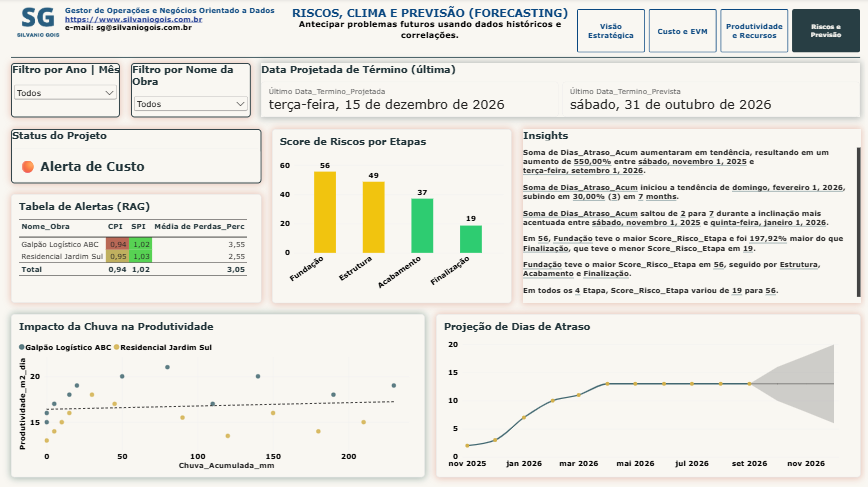

The page's visual inventory and layout, read from the dashboard file:
{"tool":"powerbi","page":{"name":"Riscos e Previsão","canvas":[1920,1080],"ordinal":3},"visuals":[{"type":"image","box":[24,0,120,96],"z":0},{"type":"textbox","box":[144,0,480,120],"z":1000},{"type":"textbox","box":[624,0,648,144],"z":2000},{"type":"pageNavigator","box":[1272,24,624,96],"z":3000},{"type":"shape","box":[24,120,1872,24],"z":4000},{"type":"scatterChart","title":"Impacto da Chuva na Produtividade","fields":{"Series":["Obras.Nome_Obra"],"X":["Obras.Chuva_Acumulada_mm"],"Y":["Obras.Produtividade_m2_dia"]},"box":[24,696,912,360],"z":5000},{"type":"slicer","title":"Filtro por Nome da Obra","fields":{"Values":["Obras.Nome_Obra"]},"box":[288,144,264,120],"z":6000},{"type":"slicer","title":"Filtro por Ano | Mês","fields":{"Values":["Obras.Data_Referencia.Variation.Hierarquia de datas.Ano","Obras.Data_Referencia.Variation.Hierarquia de datas.Mês"]},"box":[24,144,240,120],"z":7000},{"type":"lineChart","title":"Projeção de Dias de Atraso","fields":{"Category":["Obras.Data_Referencia"],"Y":["Sum(Obras.Dias_Atraso_Acum)"]},"box":[960,696,936,360],"z":8000},{"type":"tableEx","title":"Tabela de Alertas (RAG)","fields":{"Values":["Obras.Nome_Obra","MedidasDesempenhoEVM.CPI","MedidasDesempenhoEVM.SPI","Avg(Obras.Perdas_Perc)"]},"box":[24,432,552,240],"z":9000},{"type":"cardVisual","title":"Data Projetada de Término (última)","fields":{"Data":["Max(Obras.Data_Termino_Projetada)","Max(Obras.Data_Termino_Prevista)"]},"box":[576,144,1320,120],"z":10000},{"type":"cardVisual","title":"Status do Projeto","fields":{"Data":["MedidasAlertaSemaforo.Status_Projeto"]},"box":[24,288,552,120],"z":11000},{"type":"columnChart","title":"Score de Riscos por Etapas","fields":{"Category":["Obras.Etapa"],"Y":["MedidasMedidor.Score_Risco_Etapa"]},"box":[600,288,528,384],"z":12000},{"type":"textbox","title":"Insights","box":[1152,288,744,384],"z":13000}]}

Visuals, with their boxes in screenshot pixels (x1, y1, x2, y2), scaled from the page's 1920x1080 canvas onto the 868x487 screenshot:
image: <region>11, 0, 65, 43</region>
textbox: <region>65, 0, 282, 54</region>
textbox: <region>282, 0, 575, 65</region>
pageNavigator: <region>575, 11, 857, 54</region>
shape: <region>11, 54, 857, 65</region>
"Impacto da Chuva na Produtividade" scatterChart: <region>11, 314, 423, 476</region>
"Filtro por Nome da Obra" slicer: <region>130, 65, 250, 119</region>
"Filtro por Ano | Mês" slicer: <region>11, 65, 119, 119</region>
"Projeção de Dias de Atraso" lineChart: <region>434, 314, 857, 476</region>
"Tabela de Alertas (RAG)" tableEx: <region>11, 195, 260, 303</region>
"Data Projetada de Término (última)" cardVisual: <region>260, 65, 857, 119</region>
"Status do Projeto" cardVisual: <region>11, 130, 260, 184</region>
"Score de Riscos por Etapas" columnChart: <region>271, 130, 510, 303</region>
"Insights" textbox: <region>521, 130, 857, 303</region>
